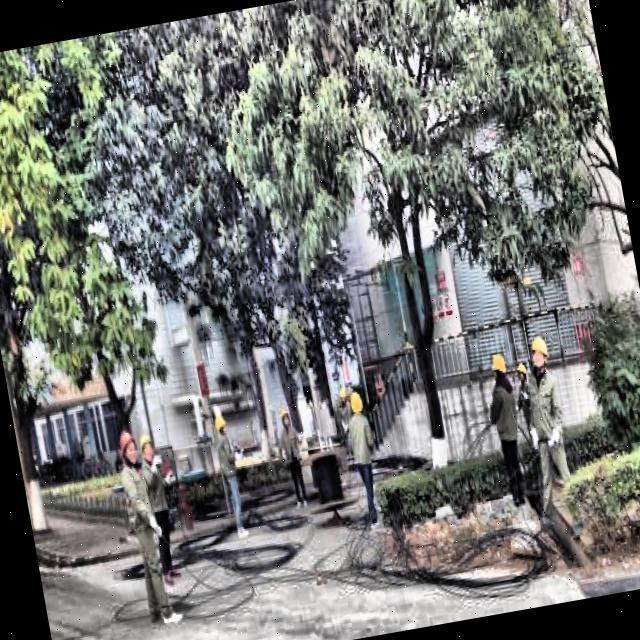helmet: (114, 426, 142, 474), (526, 330, 552, 376), (486, 346, 512, 387), (136, 430, 156, 472), (346, 386, 369, 420), (212, 408, 232, 442)
